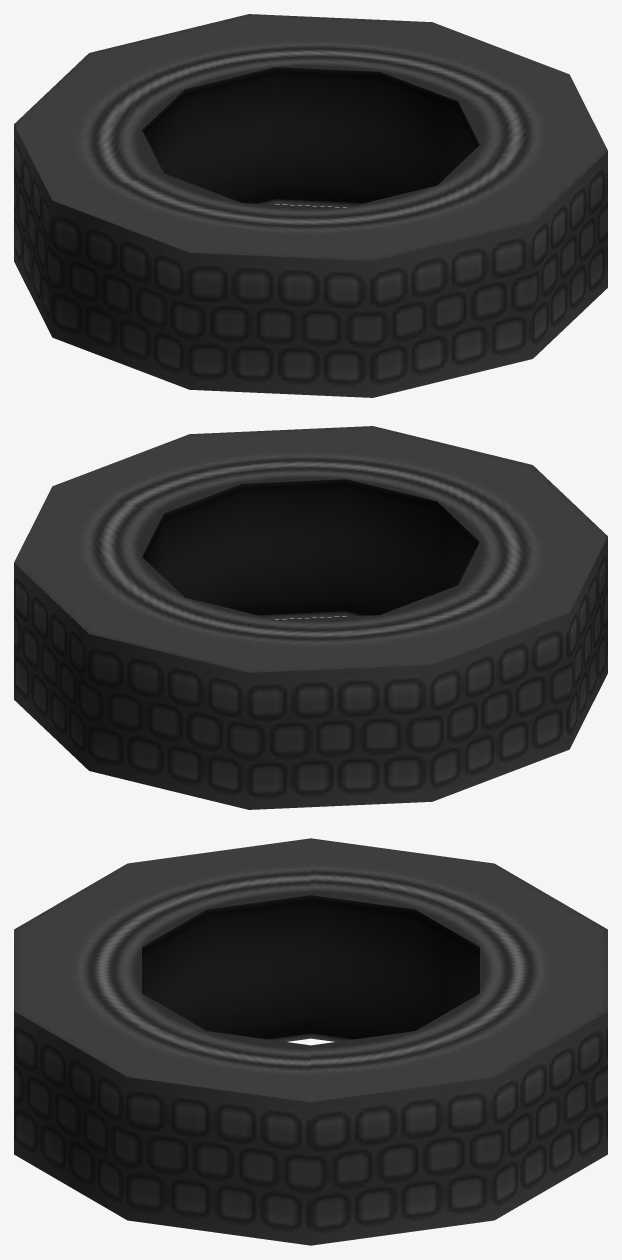
The model's file is Item_Tire.FBX.
The picture shows the model from 3 angles, top to bottom: view 1: azimuth 30°, elevation 25°; view 2: azimuth 150°, elevation 25°; view 3: azimuth 270°, elevation 25°; orthographic projection. The views are drawn at different scales.
Parts seen in each view (by area): view 1: Item_Tire; view 2: Item_Tire; view 3: Item_Tire.
Part boxes in pixels (x1=…): Item_Tire: x1=14, y1=14, x2=607, y2=397; Item_Tire: x1=14, y1=426, x2=607, y2=809; Item_Tire: x1=14, y1=838, x2=607, y2=1245.
Size of the model in its own units: 97.18 by 24.61 by 92.41.
